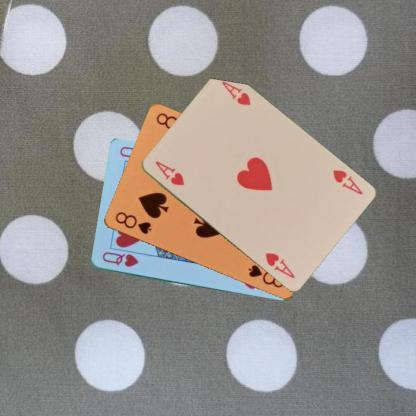8s: (112, 209, 153, 236)
Ah: (329, 166, 364, 196), (152, 158, 186, 188)
Qh: (99, 250, 140, 268)
